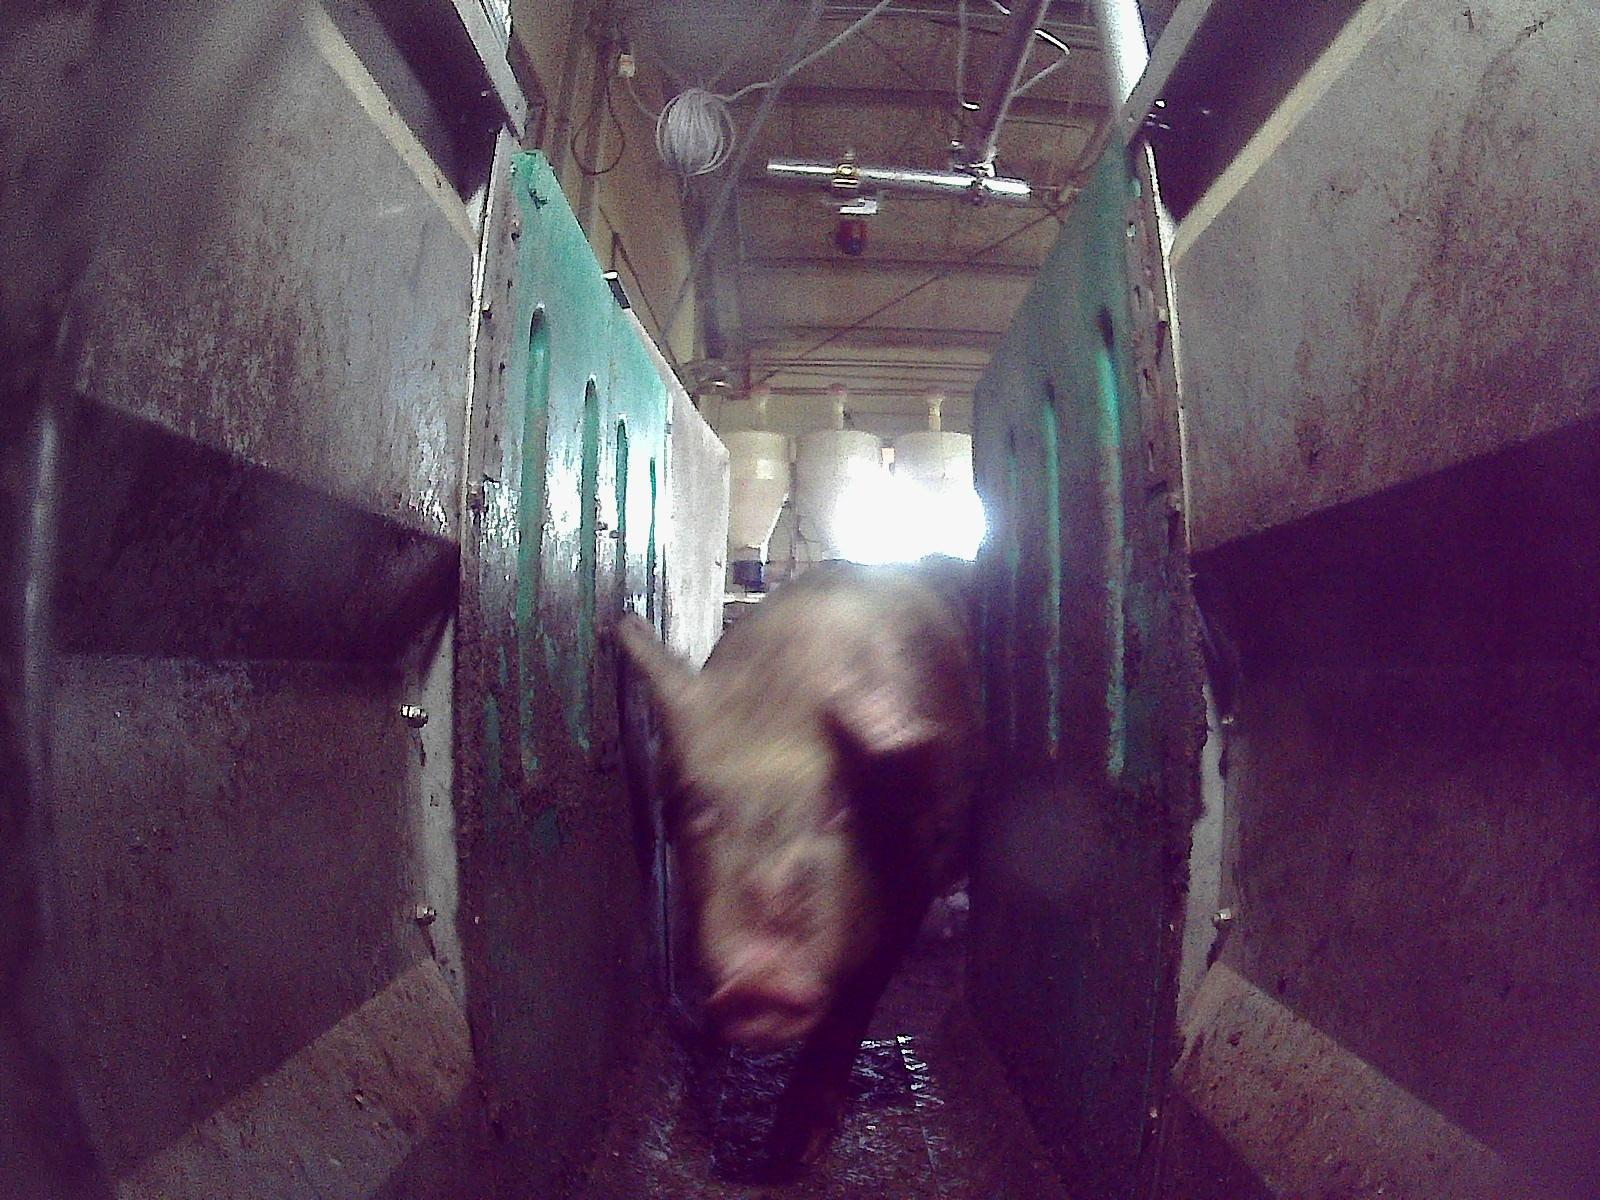Face: (658, 671, 896, 1039)
